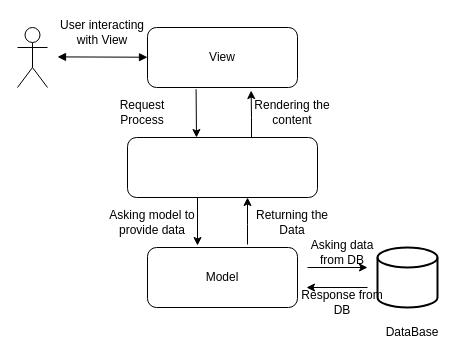
Some shapes in this 475 by 364 pixel diagram are drawn without their labels. The shapes that lost their labels are listed below. From the top down, each one's centre as x and y in pixels, then its label:
the point at 32,57: User
the point at 222,167: Controller
